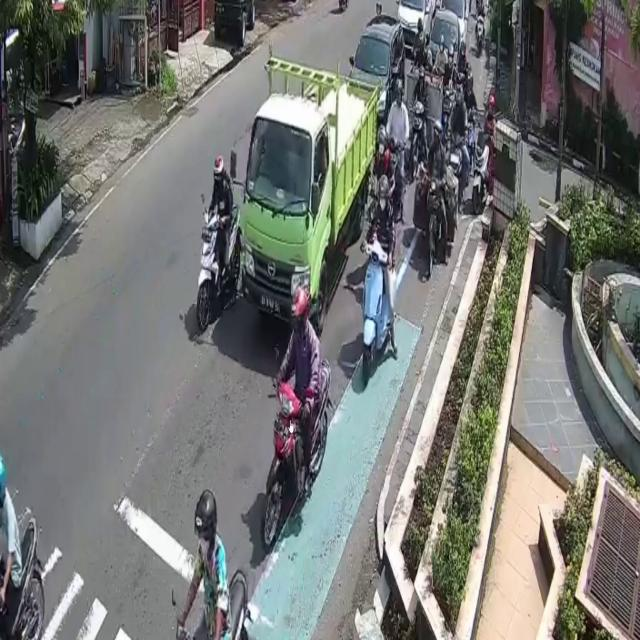car: (353, 16, 406, 124), (426, 11, 461, 98), (398, 0, 436, 55)
motorbike: (262, 357, 332, 550), (198, 205, 244, 334), (359, 239, 398, 386), (422, 175, 450, 276), (410, 96, 430, 177), (474, 130, 492, 214), (446, 132, 464, 205)
truck: (241, 59, 377, 336)
